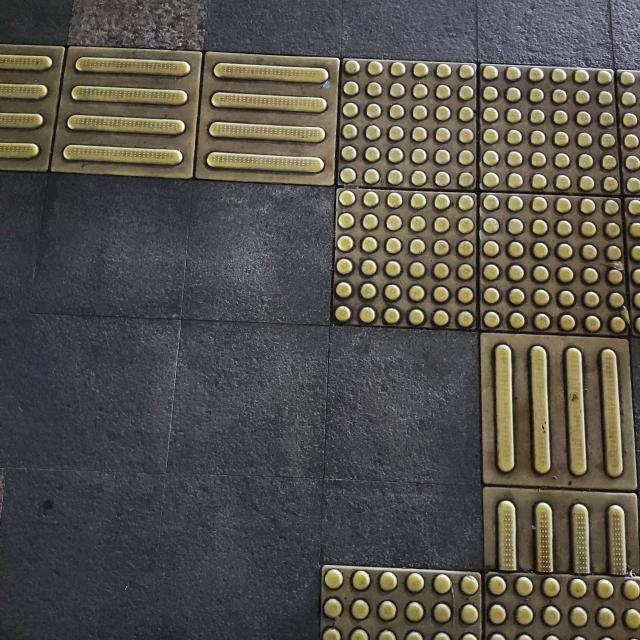kiri: (161, 41, 640, 438)
